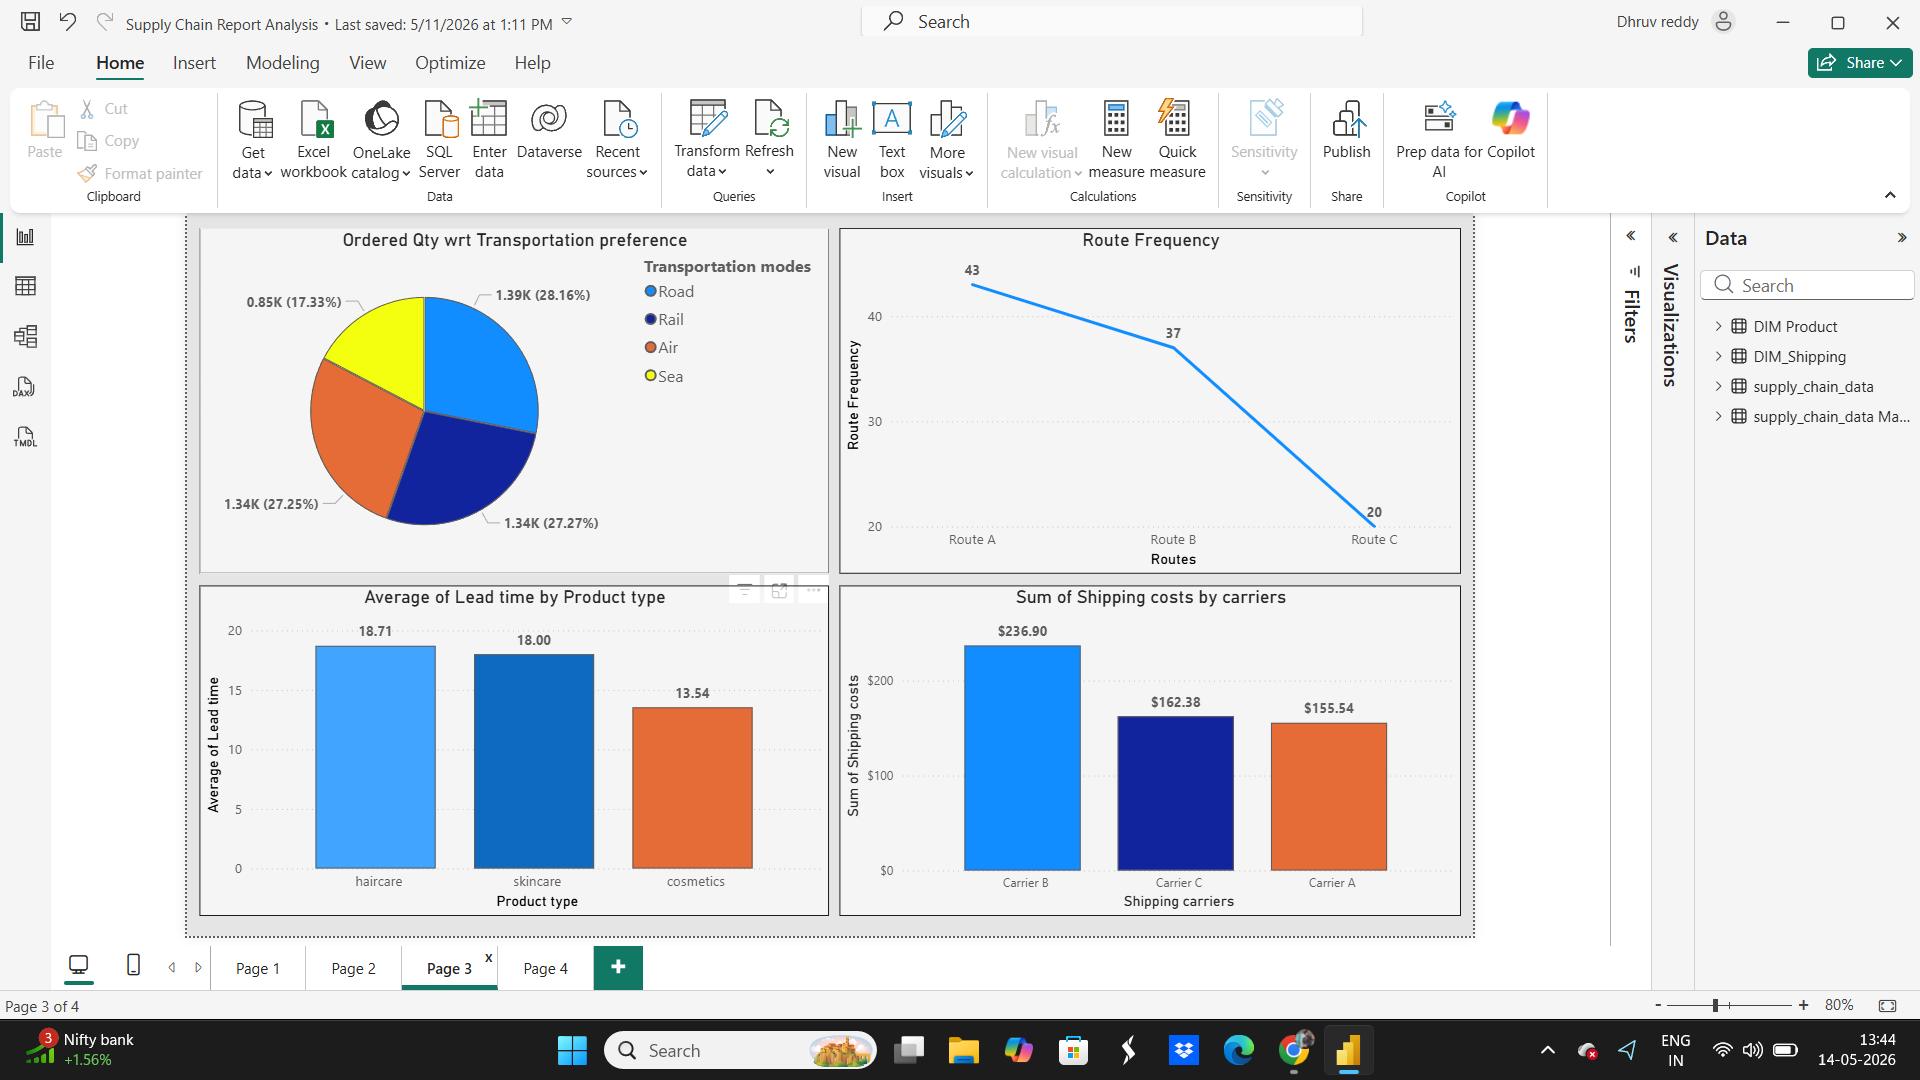

The page's visual inventory and layout, read from the dashboard file:
{"tool":"powerbi","page":{"name":"Page 3","canvas":[1280,720],"ordinal":2},"visuals":[{"type":"pieChart","title":"Ordered Qty wrt Transportation preference","fields":{"Category":["supply_chain_data.Transportation modes"],"Y":["Sum(supply_chain_data.Order quantities)"]},"box":[12.9,15.5,626.5,344.3],"z":0},{"type":"clusteredColumnChart","fields":{"Category":["supply_chain_data.Product type"],"Y":["Avg(supply_chain_data.Lead time)"]},"box":[12.9,370.2,626.5,328.8],"z":1},{"type":"lineChart","title":"Route Frequency ","fields":{"Category":["supply_chain_data.Routes"],"Y":["supply_chain_data.Route Frequency"]},"box":[649.8,15.5,618.8,344.3],"z":2},{"type":"clusteredColumnChart","title":"Sum of Shipping costs by carriers","fields":{"Category":["supply_chain_data.Shipping carriers"],"Y":["Sum(supply_chain_data.Shipping costs)"]},"box":[649.8,370.2,618.8,328.8],"z":3}]}

Visuals, with their boxes on the page's 1280x720 design canvas (x1, y1, x2, y2). These are canvas units, not pixel positions in the 1920x1080 screenshot, which may show the page scaled, cropped or inside an application window:
"Ordered Qty wrt Transportation preference" pieChart: box=[13, 16, 639, 360]
clusteredColumnChart - supply_chain_data.Product type x Avg(supply_chain_data.Lead time): box=[13, 370, 639, 699]
"Route Frequency " lineChart: box=[650, 16, 1269, 360]
"Sum of Shipping costs by carriers" clusteredColumnChart: box=[650, 370, 1269, 699]
